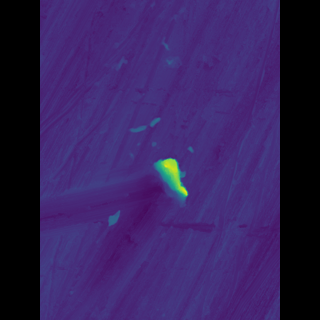Loch: (151, 150, 185, 211), (159, 48, 178, 72)
